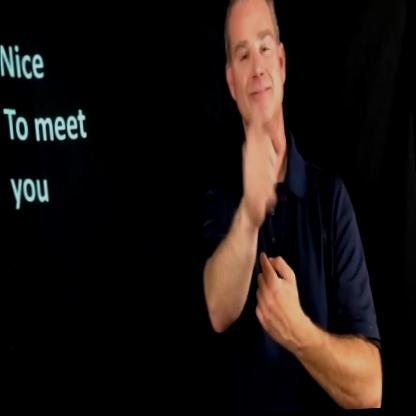NiceToMeetYou: (221, 76, 314, 343)
